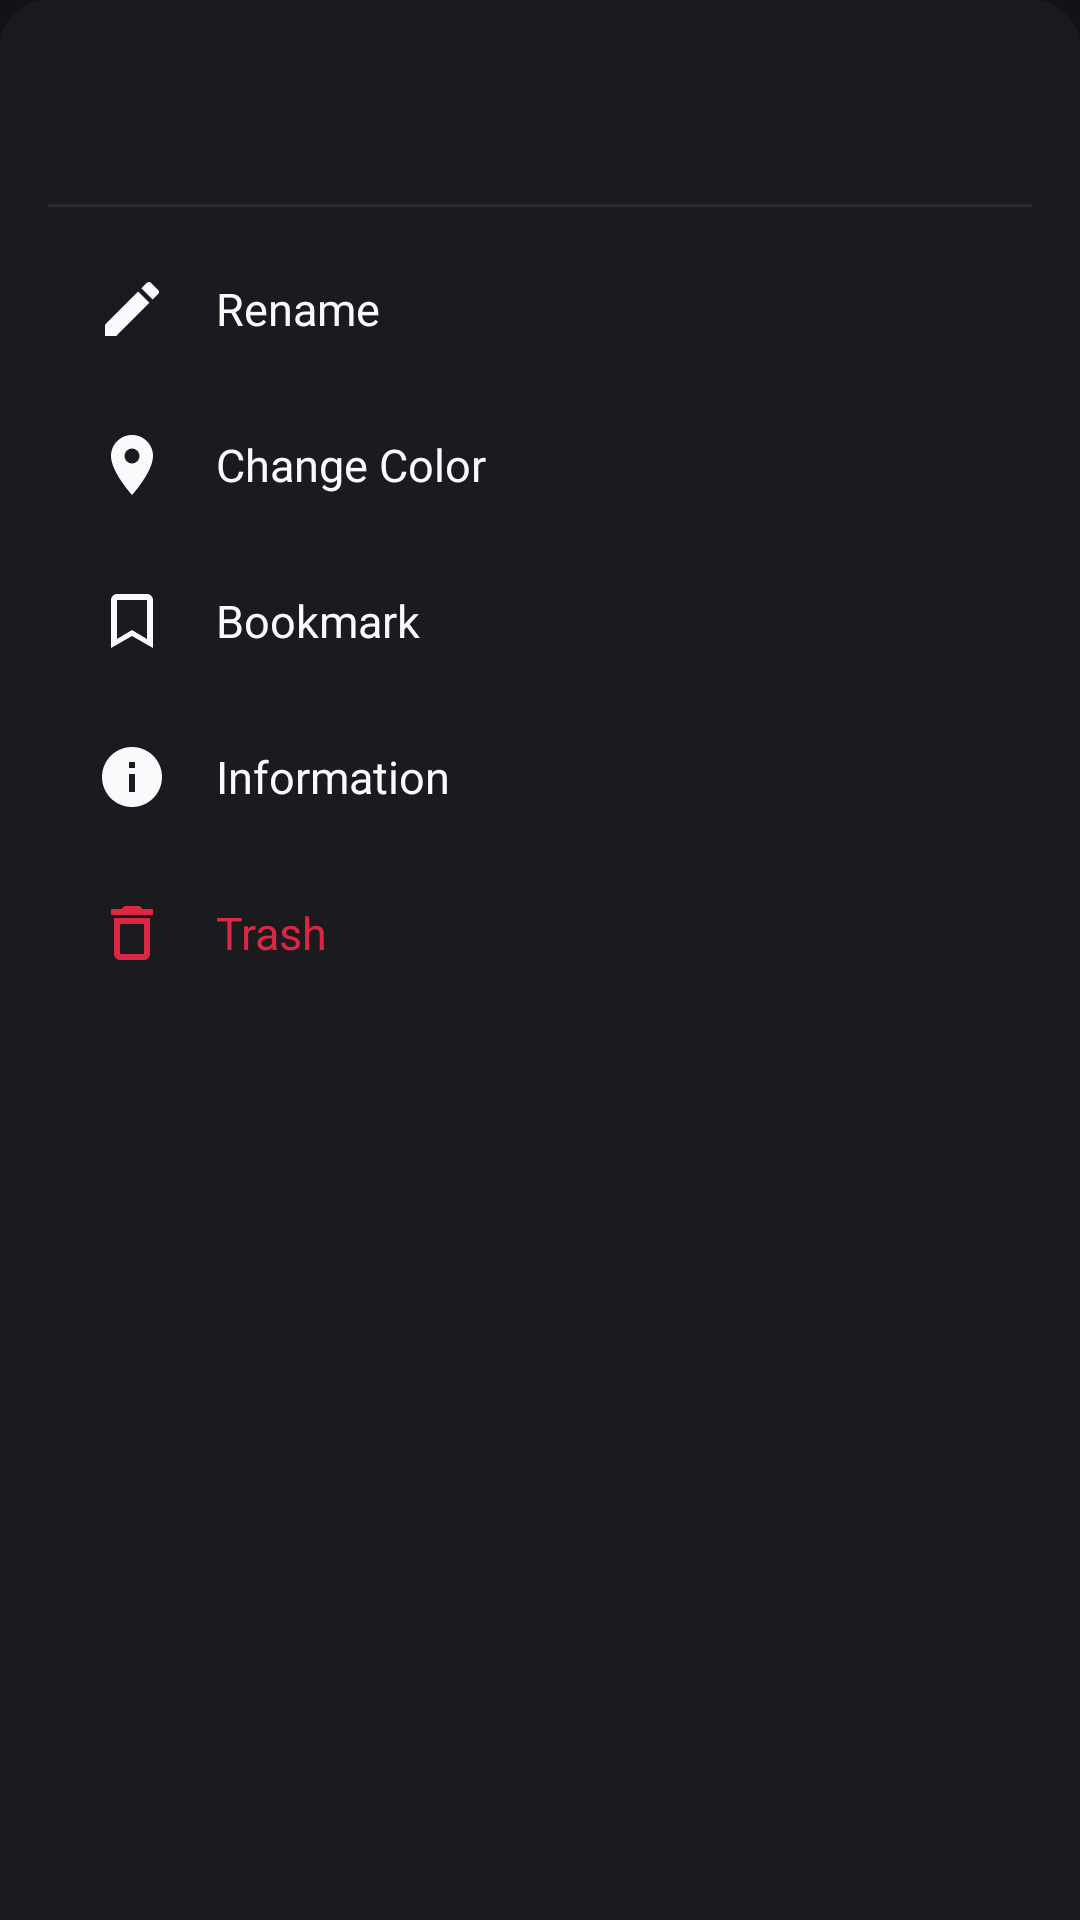

Locate icon controls on the screen. Image size 1080px×1920px, boxes as bbox=(x1, y1, x2, y2).
overflow info: bbox=(102, 747, 162, 807)
